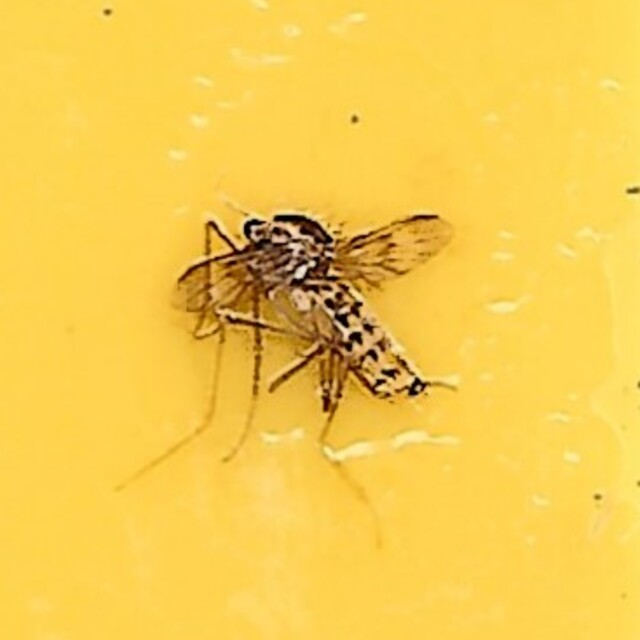Nematocera: (174, 198, 466, 442)
